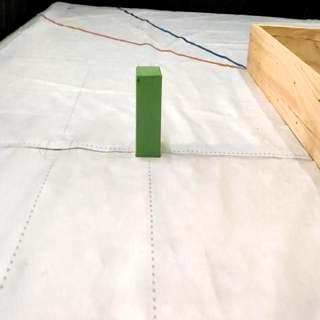greenbox: (135, 66, 162, 158)
